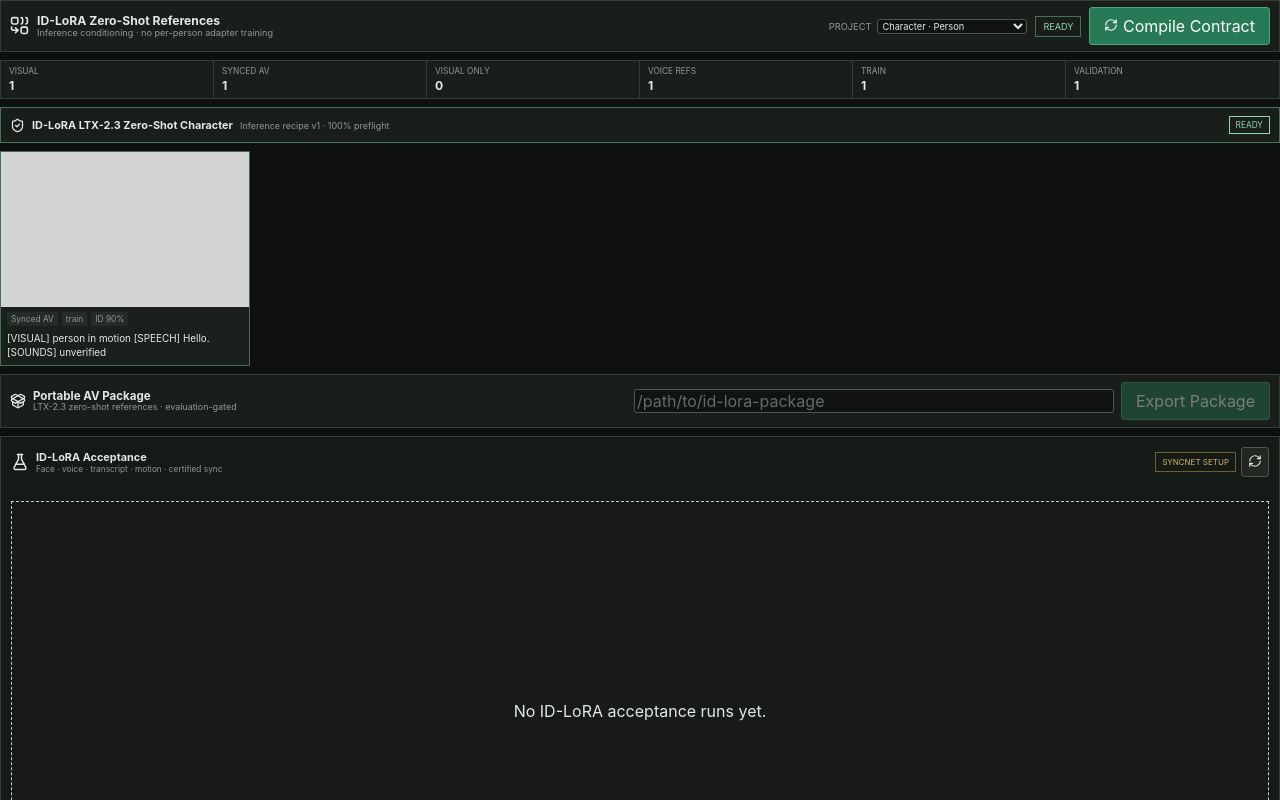
Test: IdLoraCompiler › exports a ready synchronized AV contract with the pinned zero-shot RunPod target
This screenshot has width=1280, height=800.
Expected: the text "ID-LoRA LTX-2.3 Zero-Shot Character" is shown, [32,118,233,132]
Expected: the text "Inference recipe v1 · 100% preflight" is shown, [240,120,389,130]
Type "/tmp/id-lora" into the field named "ID-LoRA output folder" at [874, 401], box [634,389,1114,413]
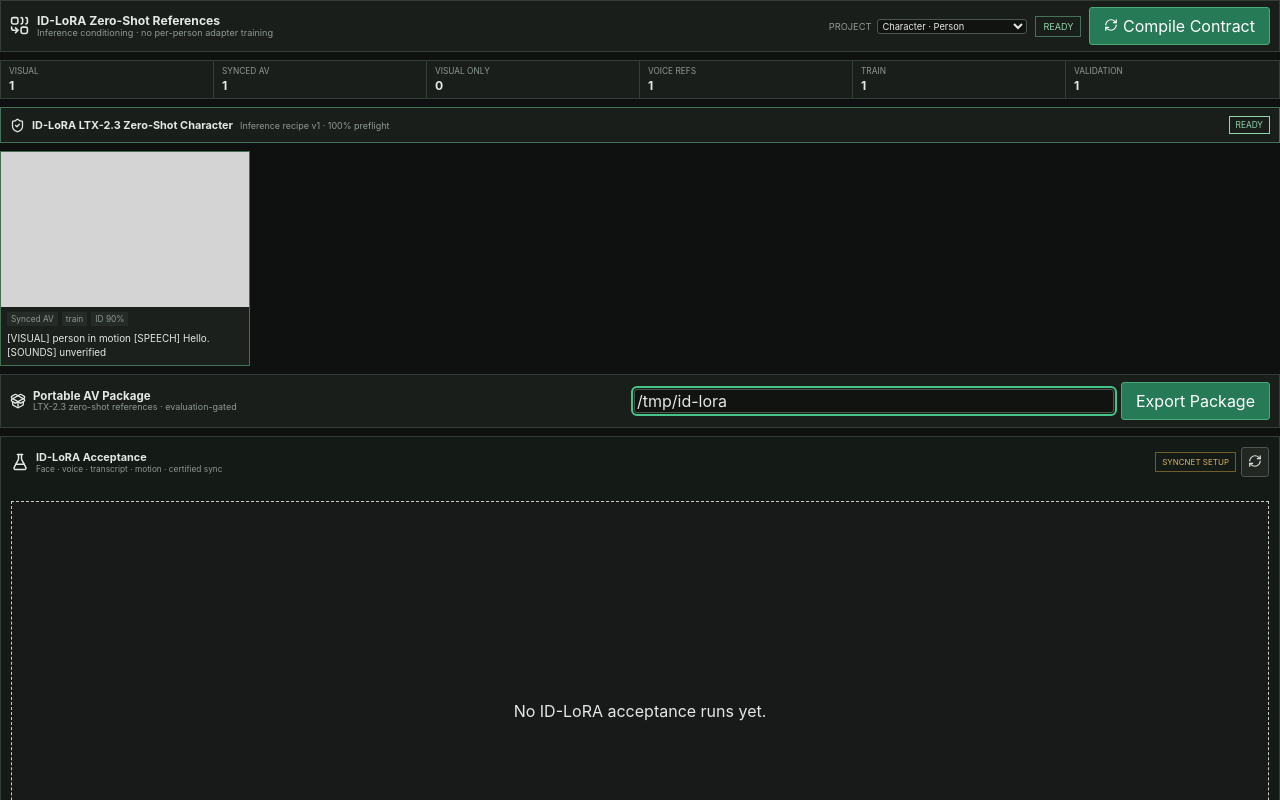
Click the button "Export Package" at [1196, 401], box [1121,382,1270,420]
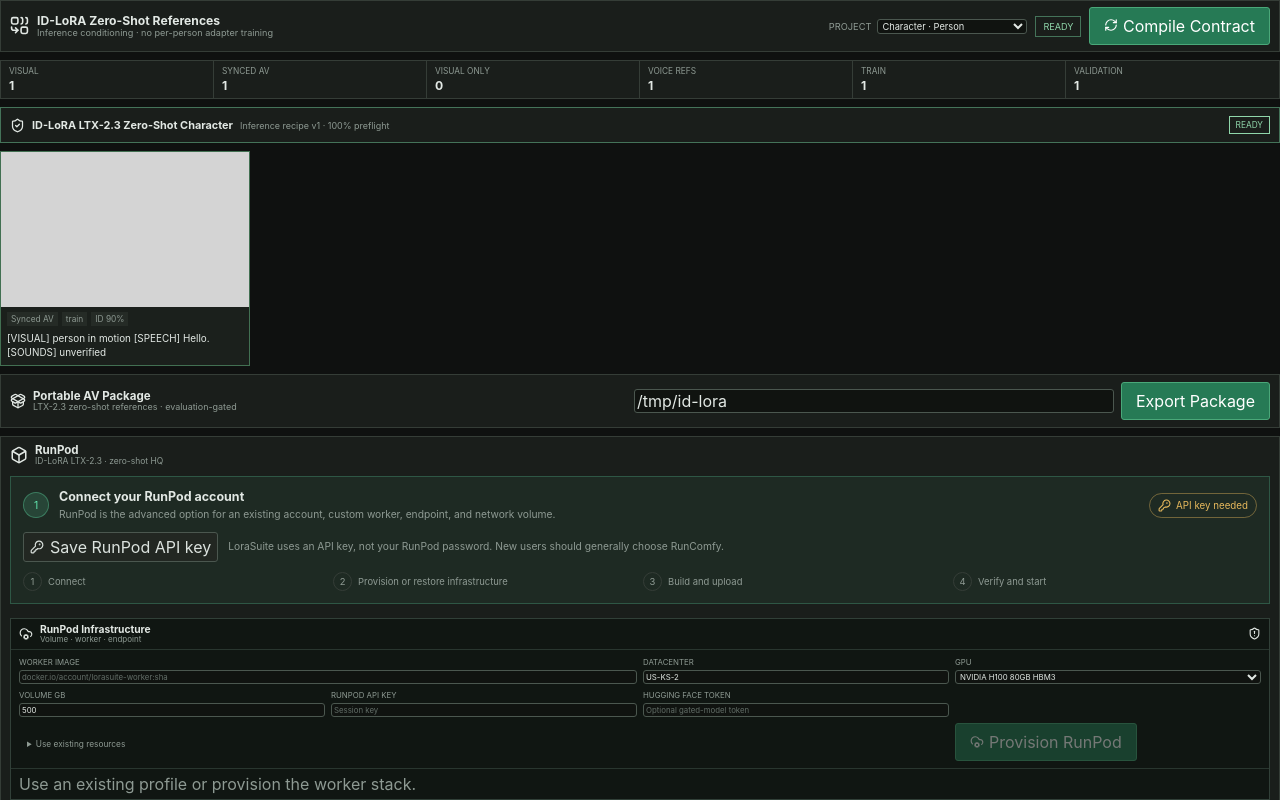
Expected: the text "ID-LoRA LTX-2.3 · zero-shot HQ" is shown, [35,457,163,466]
